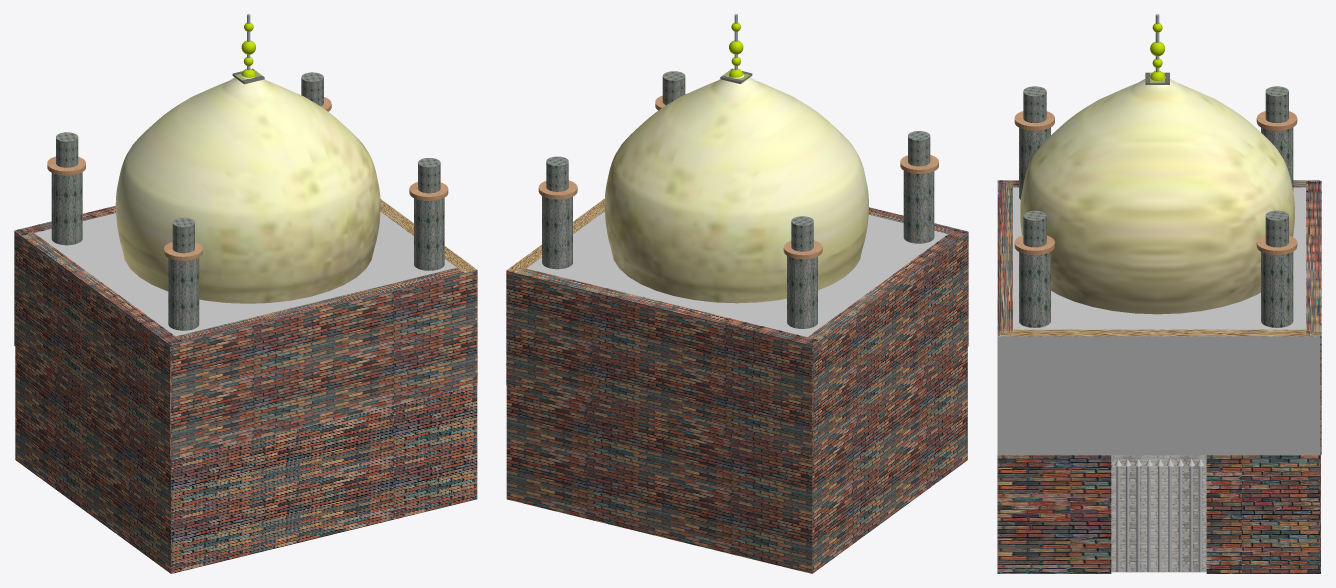
File: Persians_ArmyBuilding.fbx
3 views of the same model, side by side, from view 1: azimuth 30°, elevation 25°; view 2: azimuth 150°, elevation 25°; view 3: azimuth 270°, elevation 25° (orthographic). The views are drawn at different scales.
Parts seen in each view (by area): view 1: cupula2.000, Cube.010, Cube, Cube.008, Cube.004, Cube.017, Cylinder.162, Cylinder.157, Cylinder, Cube.011, Cylinder.160, Cylinder.002 (+2 smaller); view 2: cupula2.000, Cube.009, Cube.003, Cube.008, Cube.004, Cube.017, Cylinder.157, Cylinder.005, Cylinder.162, Cube.011, Cylinder.160, Cylinder.159 (+2 smaller); view 3: cupula2.000, Cube.011, Cube.005, Cube.006, Plane, Cube.017, Cube.009, Cube.010, Cylinder.005, Cylinder, Cylinder.157, Cylinder.002 (+17 smaller).
Part boxes in pixels (left/top/right/bottom): cupula2.000: left=115, top=14, right=380, bottom=303; Cube.010: left=171, top=267, right=477, bottom=458; Cube: left=171, top=384, right=477, bottom=573; Cube.008: left=14, top=228, right=182, bottom=459; Cube.004: left=15, top=346, right=170, bottom=573; Cube.017: left=34, top=212, right=456, bottom=336; Cylinder.162: left=51, top=172, right=82, bottom=245; Cylinder.157: left=168, top=258, right=199, bottom=330; Cylinder: left=414, top=198, right=444, bottom=270; Cube.011: left=380, top=199, right=477, bottom=384; Cylinder.160: left=56, top=132, right=78, bottom=167; Cylinder.002: left=418, top=158, right=440, bottom=193; cupula2.000: left=604, top=14, right=868, bottom=303; Cube.009: left=506, top=268, right=818, bottom=459; Cube.003: left=506, top=385, right=812, bottom=573; Cube.008: left=802, top=229, right=968, bottom=459; Cube.004: left=812, top=347, right=967, bottom=573; Cube.017: left=526, top=211, right=947, bottom=336; Cylinder.157: left=903, top=171, right=934, bottom=243; Cylinder.005: left=542, top=196, right=572, bottom=269; Cylinder.162: left=787, top=256, right=817, bottom=328; Cube.011: left=506, top=198, right=604, bottom=273; Cylinder.160: left=791, top=216, right=813, bottom=251; Cylinder.159: left=908, top=131, right=930, bottom=166; cupula2.000: left=1020, top=14, right=1294, bottom=314; Cube.011: left=997, top=329, right=1320, bottom=455; Cube.005: left=997, top=455, right=1111, bottom=573; Cube.006: left=1206, top=455, right=1319, bottom=573; Plane: left=1111, top=455, right=1206, bottom=572; Cube.017: left=1013, top=187, right=1306, bottom=329; Cube.009: left=1306, top=181, right=1321, bottom=454; Cube.010: left=997, top=181, right=1012, bottom=335; Cylinder.005: left=1261, top=252, right=1293, bottom=327; Cylinder: left=1019, top=252, right=1050, bottom=327; Cylinder.157: left=1019, top=127, right=1050, bottom=199; Cylinder.002: left=1023, top=210, right=1046, bottom=247.
Size of the model in its own units: 1034 by 1494 by 911.
